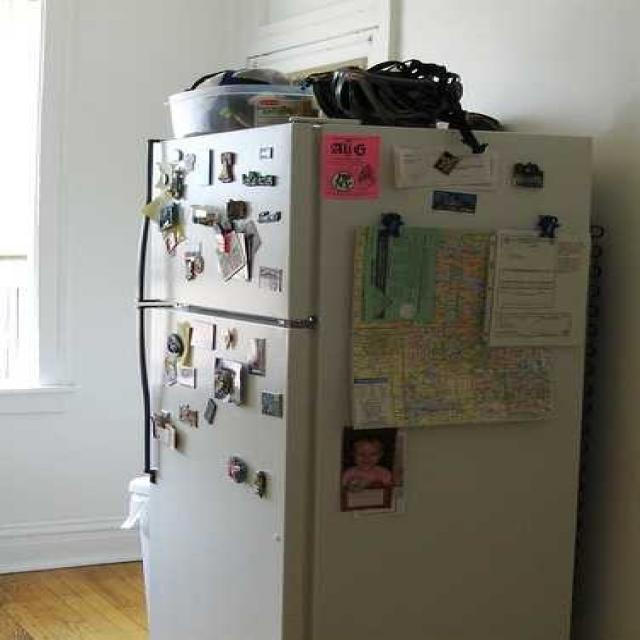refrigerator: (130, 120, 333, 640)
